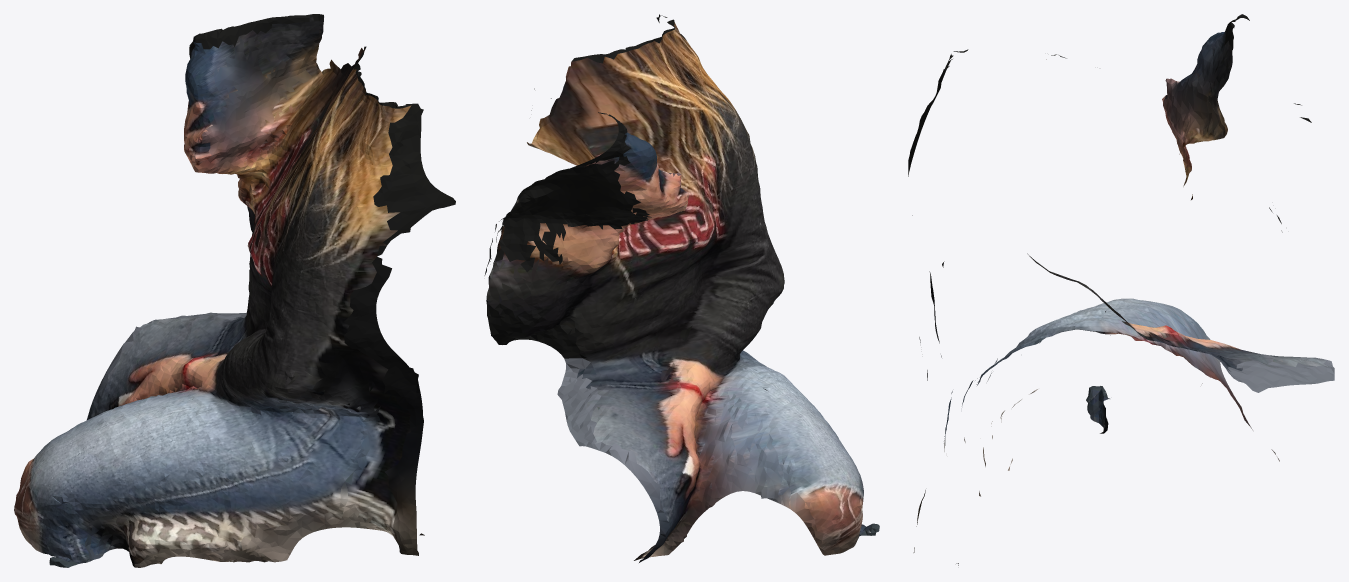
3 views of the same model, side by side, from view 1: azimuth 30°, elevation 25°; view 2: azimuth 150°, elevation 25°; view 3: azimuth 270°, elevation 25° (orthographic). The views are drawn at different scales.
Size of the model in its own units: 0.5006 by 0.6429 by 0.497.
1 material, 1 textured.
